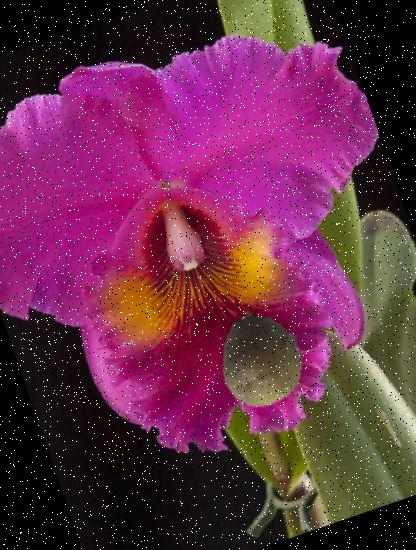Potato: (204, 300, 322, 418)
